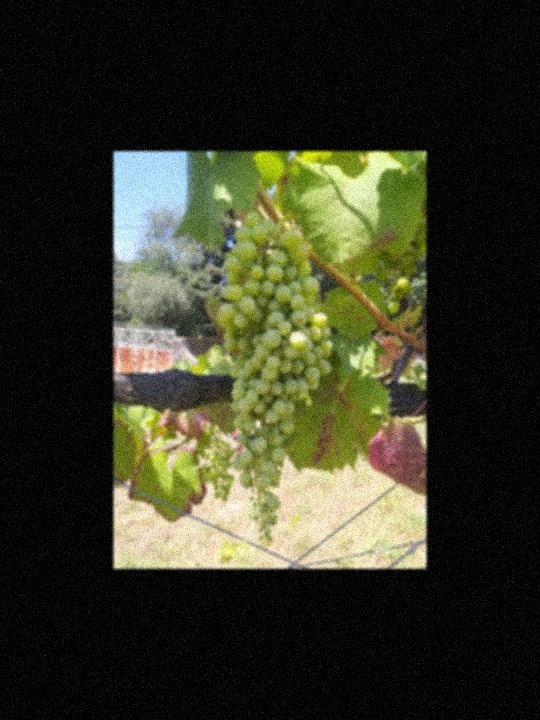grape: (216, 210, 333, 544), (200, 423, 238, 505)
